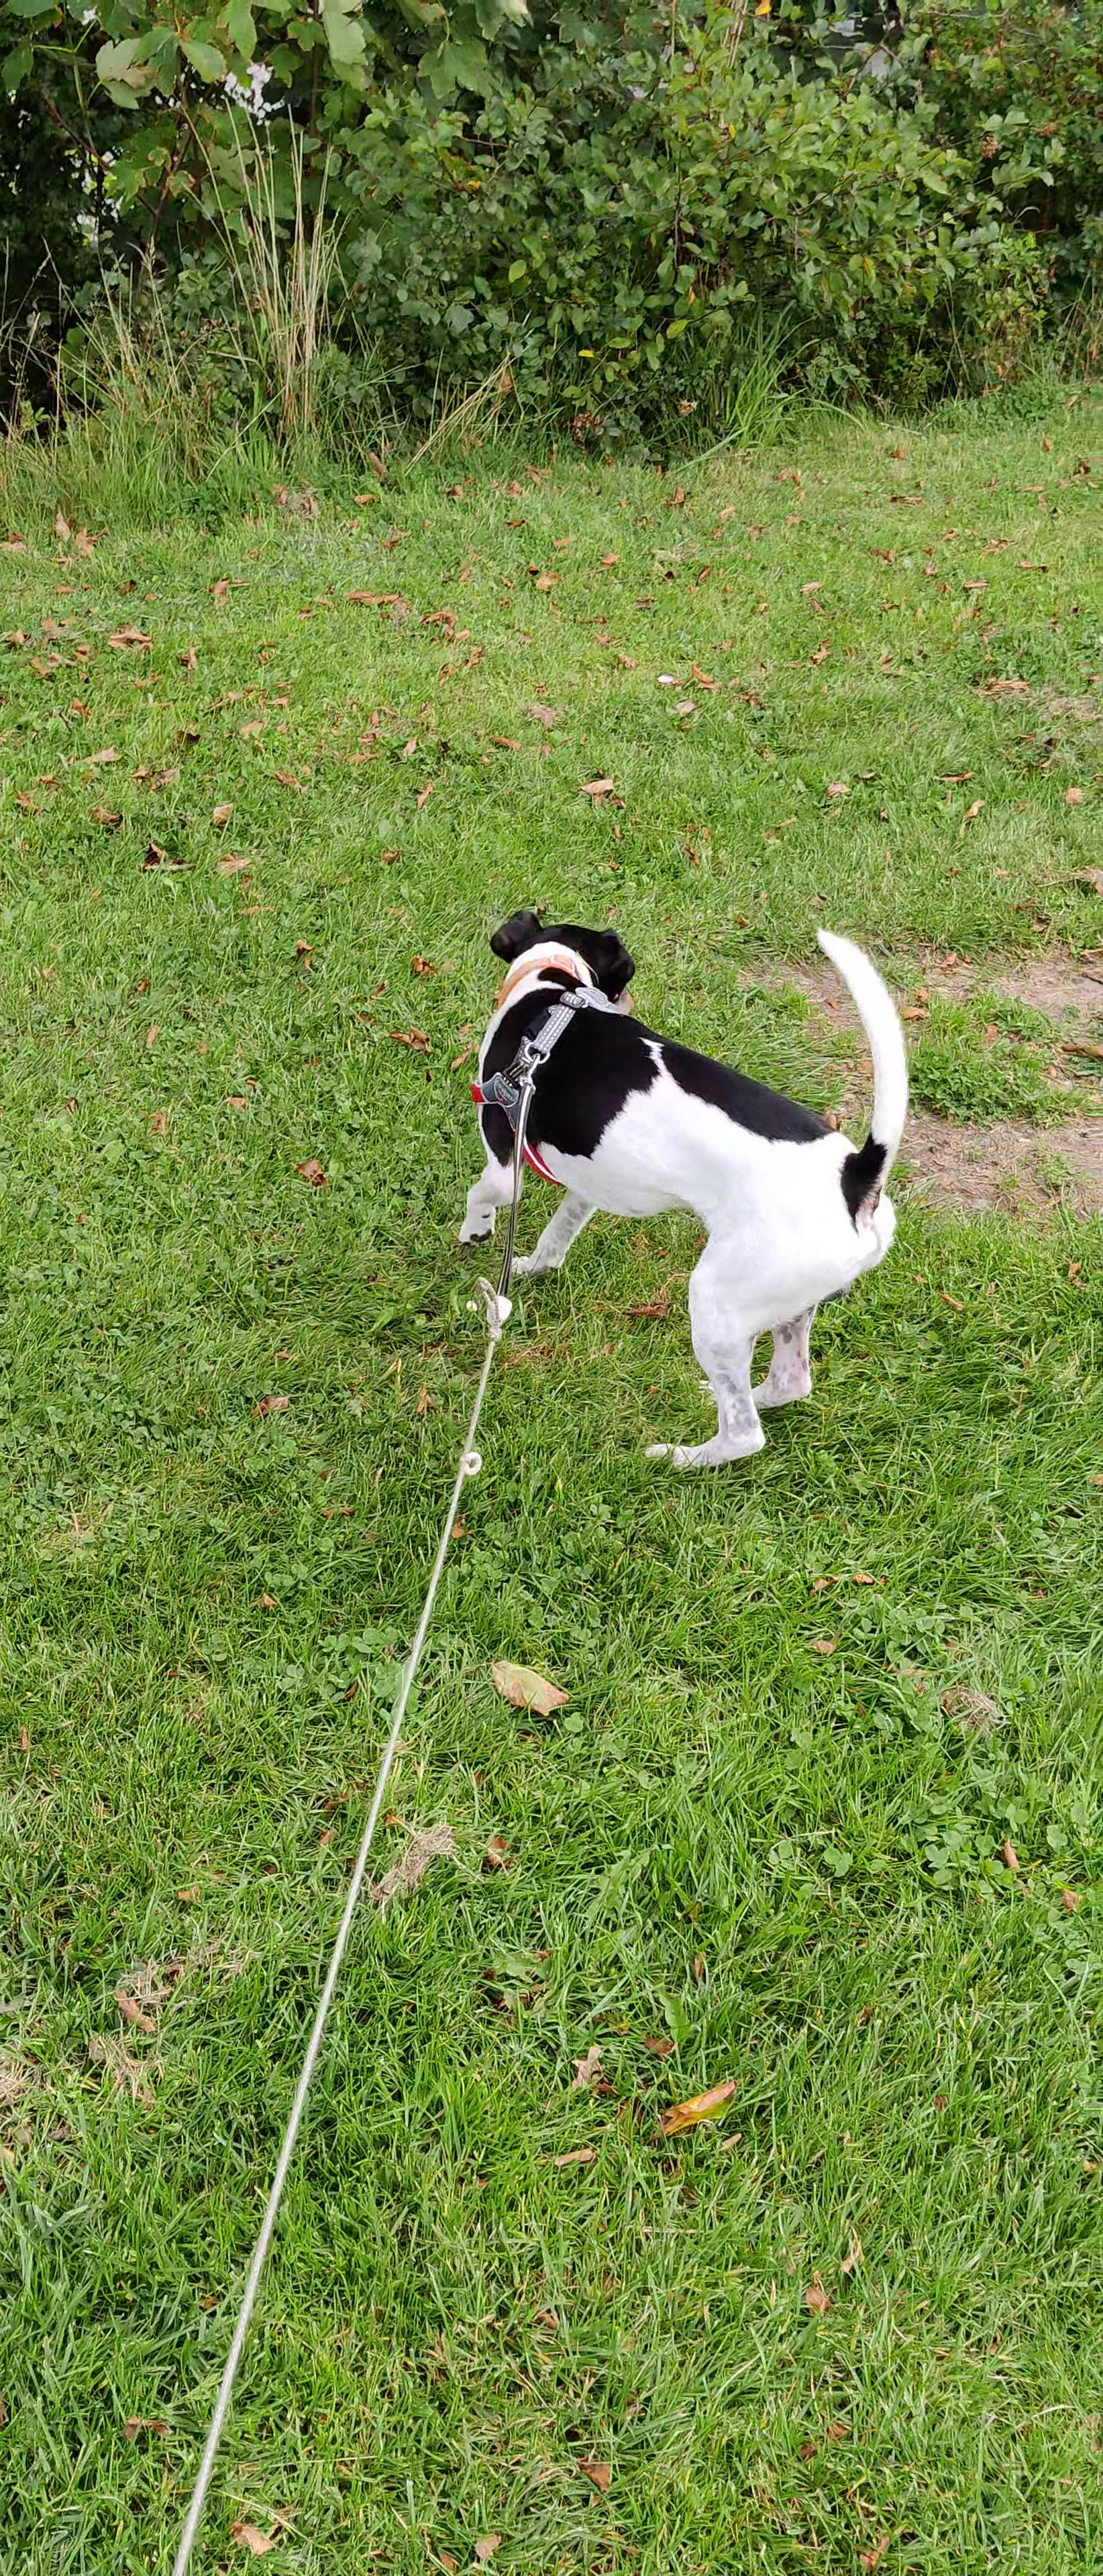Dog: (441, 856, 925, 1493)
